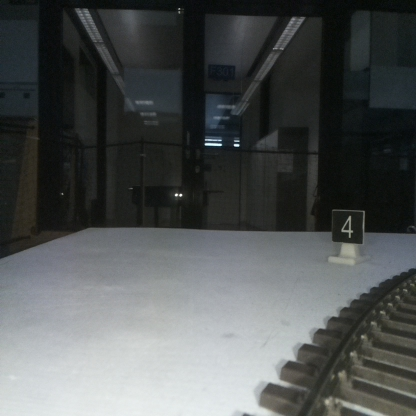black-stop-4: (332, 210, 363, 261)
